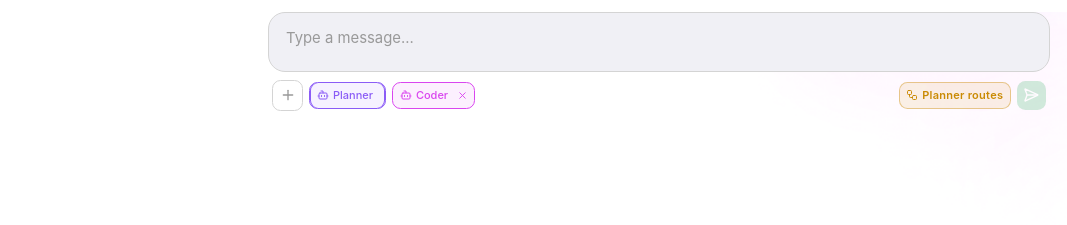
the agent chip menu › offers no Set as Coordinator on the current coordinator, and marks only its chip
The image size is (1067, 225).
expect the text "Coordinator" is not shown: met
Right-click the text "Planner" at (348, 95), box [309,82,386,109]
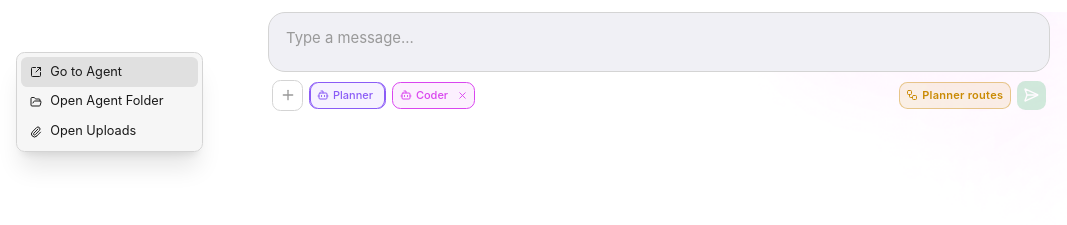
expect the menu item "Set as Coordinator" is not shown: met
expect the menu item "Open Agent Folder" is shown: met, box [21,87,198,117]
Press Escape
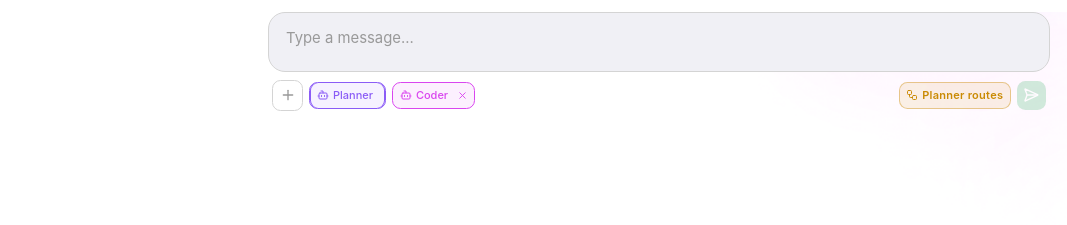
Right-click the element showing "Coder" at (434, 95), box [392,82,475,109]
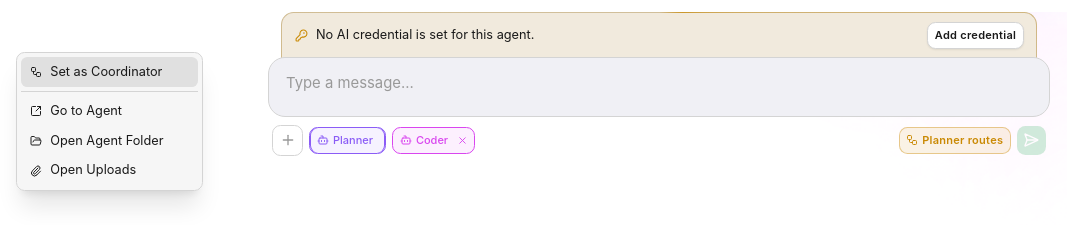
expect the menu item "Set as Coordinator" is enabled: met, box [21,57,198,87]
